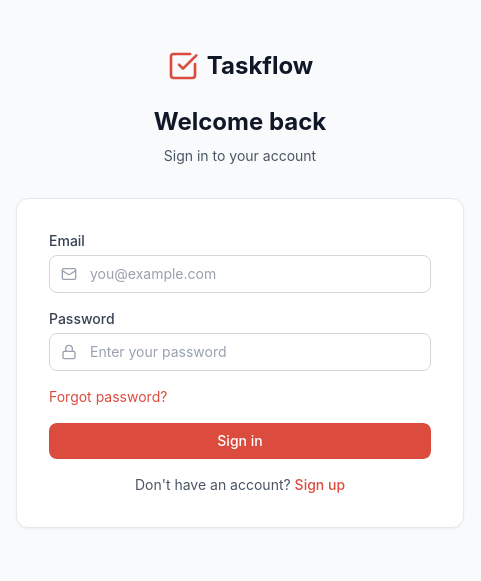
Scenario: Login — unverified email › does not offer a resend for an ordinary bad password
Step 1. Type "new@example.com" into the field labelled "Email" → (240, 274), box [49,255,431,293]
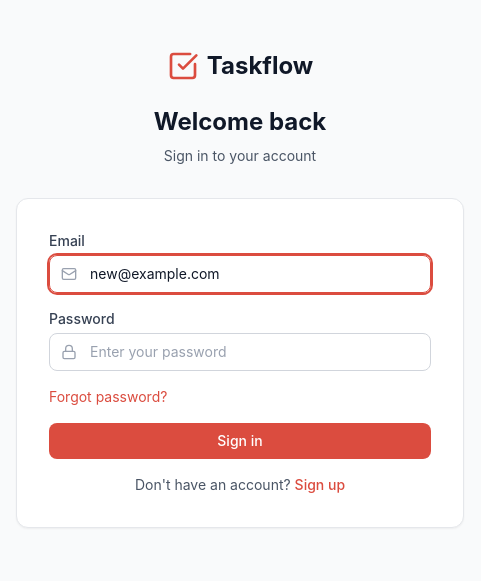
Step 2. Type "hunter22" into the password field labelled "Password" → (240, 352), box [49,333,431,371]
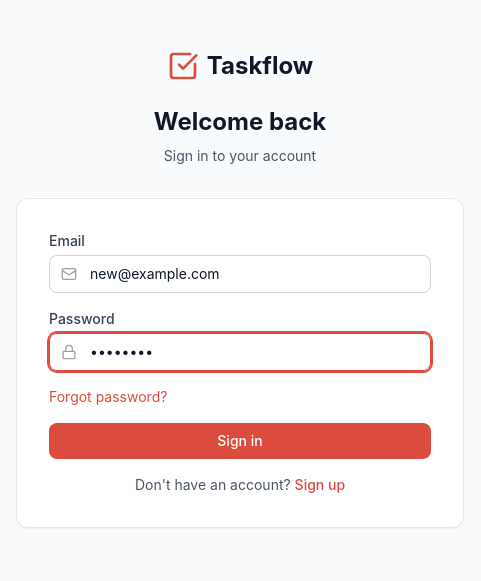
Step 3. Click the button "Sign in" → (240, 441), box [49,423,431,459]
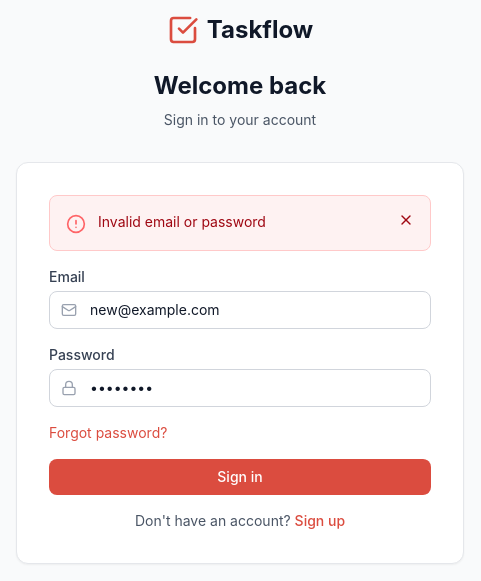
Check: the text "Invalid email or password" is shown, box [98,213,266,230]
